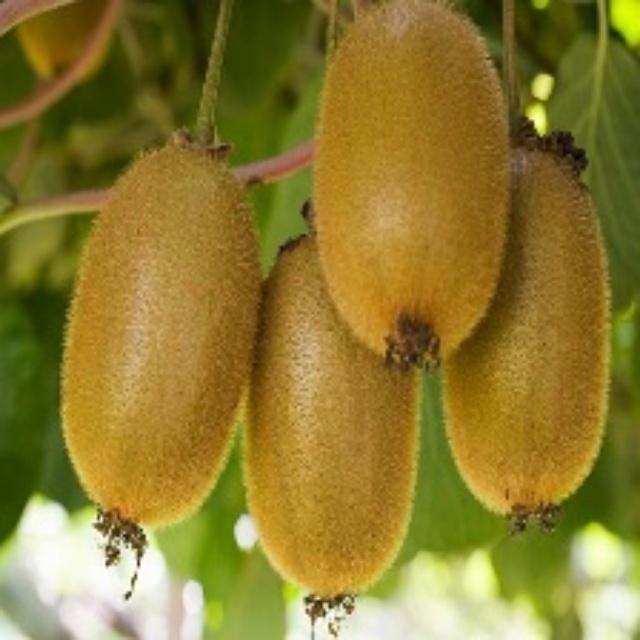kiwi: (65, 141, 265, 544), (303, 1, 517, 370), (247, 225, 419, 630), (444, 135, 610, 541)
